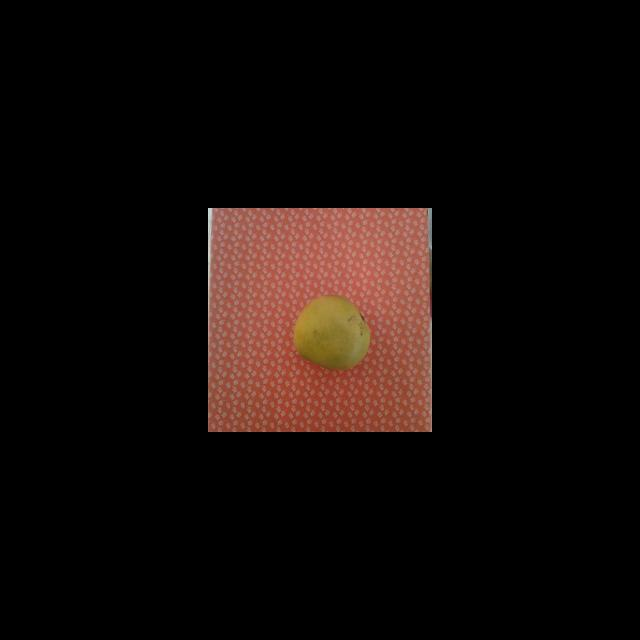Mango: (293, 294, 371, 370)
